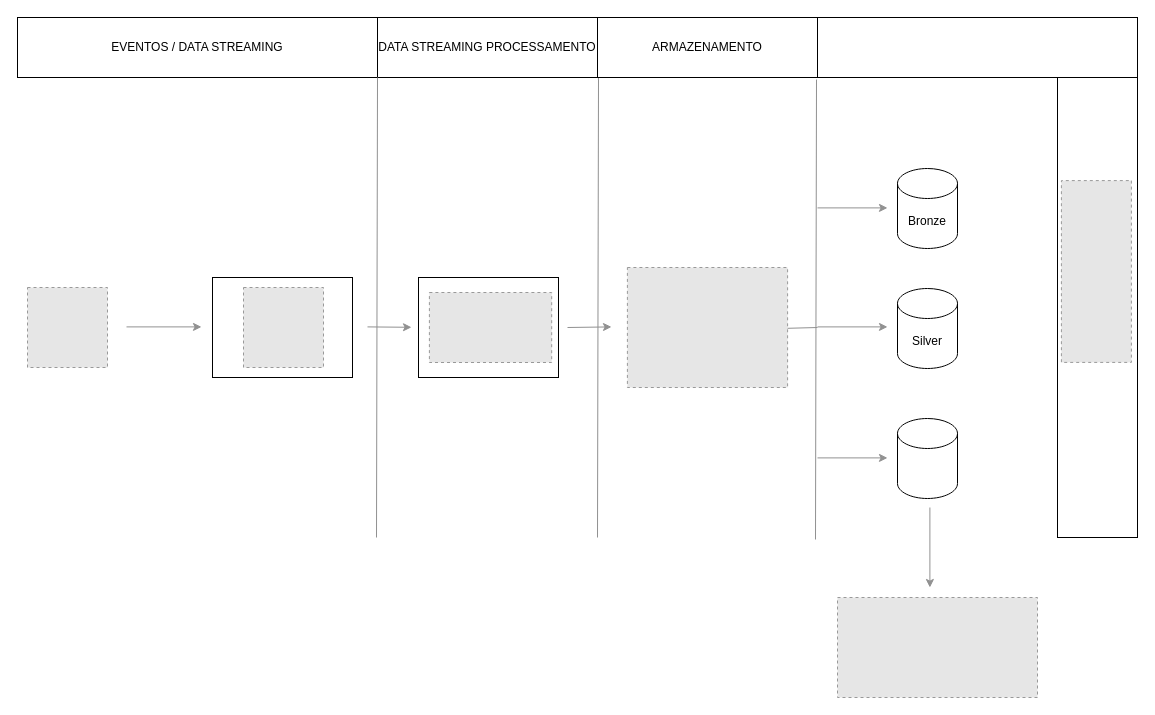
The diagram is 1155 pixels wide and 715 high, and some of its shapes have lost their labels. Grey dashed boxes stand in for pictures. The centre of each missing label's shape, as x and y in pixels:
DISTRIBUIÇÃO DOS DADOS: point (977, 47)
Gold: point (927, 458)
